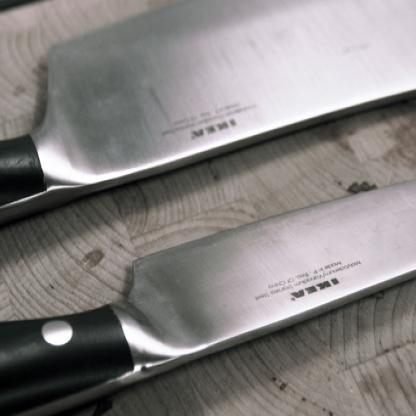knife: (0, 0, 415, 304), (0, 154, 415, 415)
